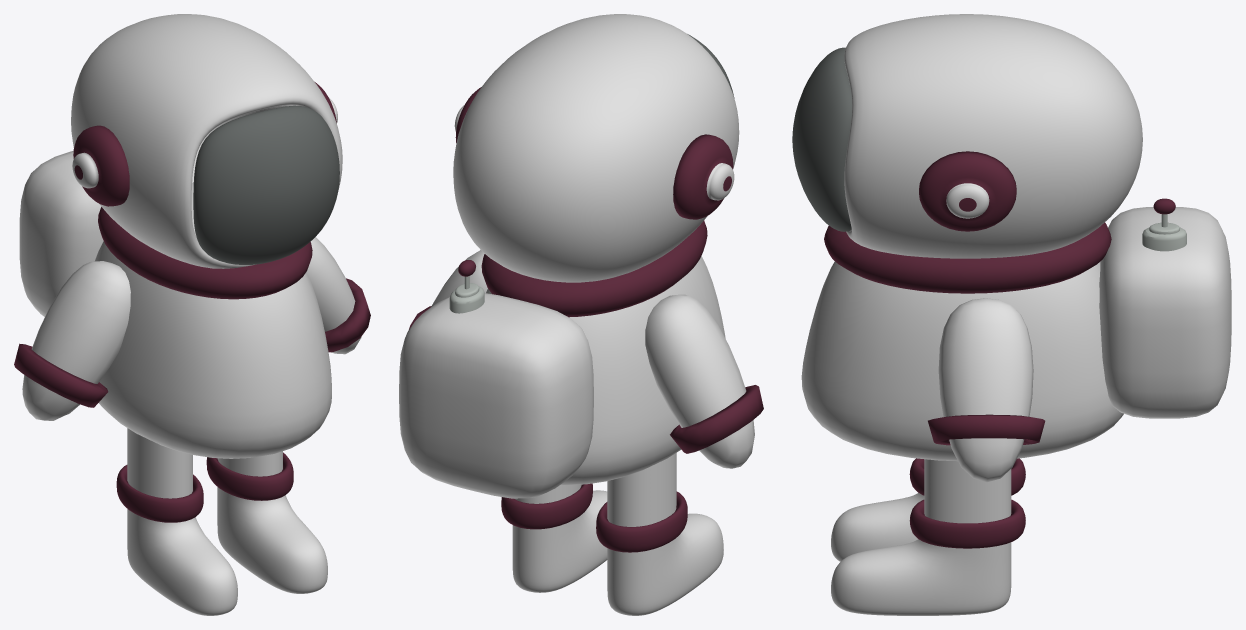
Rendered from Personajed.fbx.
The picture shows the model from 3 angles, left to right: view 1: azimuth 30°, elevation 25°; view 2: azimuth 150°, elevation 25°; view 3: azimuth 270°, elevation 25°; orthographic projection. The views are drawn at different scales.
Visible parts, largest first — view 1: Cubo, Cube, Cubo.001, Cube.001, Cubo.007, Cubo.005, Rosca, Cubo.002, Cilindro.001, Cubo.009, Cubo.008, Cubo.010; view 2: Cube, Cubo.005, Cubo.001, Cubo, Cubo.007, Rosca, Cubo.002, Cilindro.001, Cubo.008, Cilindro, Cubo.009; view 3: Cube, Cubo, Cubo.005, Cubo.001, Cubo.009, Rosca, Cube.001, Cilindro.001, Cubo.002, Cubo.010, Cilindro.
Part boxes in pixels (x1,y1,x2,y2): Cubo: (95, 182, 331, 458); Cube: (71, 14, 342, 268); Cubo.001: (127, 428, 327, 615); Cube.001: (193, 105, 339, 264); Cubo.007: (22, 261, 130, 420); Cubo.005: (19, 151, 103, 316); Rosca: (98, 207, 312, 299); Cubo.002: (116, 452, 293, 522); Cilindro.001: (72, 82, 337, 206); Cubo.009: (306, 237, 361, 354); Cubo.008: (14, 343, 108, 407); Cubo.010: (325, 278, 370, 352); Cube: (453, 14, 739, 282); Cubo.005: (399, 293, 593, 498); Cubo.001: (512, 453, 723, 615); Cubo: (486, 256, 725, 485); Cubo.007: (645, 294, 754, 468); Rosca: (481, 220, 707, 317); Cubo.002: (501, 483, 687, 552); Cilindro.001: (454, 87, 734, 219); Cubo.008: (670, 385, 763, 453); Cilindro: (449, 276, 484, 313); Cubo.009: (431, 250, 487, 306); Cube: (844, 14, 1142, 258); Cubo: (801, 261, 1123, 461); Cubo.005: (1099, 207, 1231, 418); Cubo.001: (831, 459, 1011, 615); Cubo.009: (938, 298, 1033, 482); Rosca: (824, 222, 1111, 293); Cube.001: (792, 47, 852, 231); Cilindro.001: (919, 151, 1016, 231); Cubo.002: (909, 458, 1025, 548); Cubo.010: (928, 414, 1045, 445); Cilindro: (1142, 214, 1186, 251).
Bounding box in the file's own units: 84.21 × 129 × 92.09.
